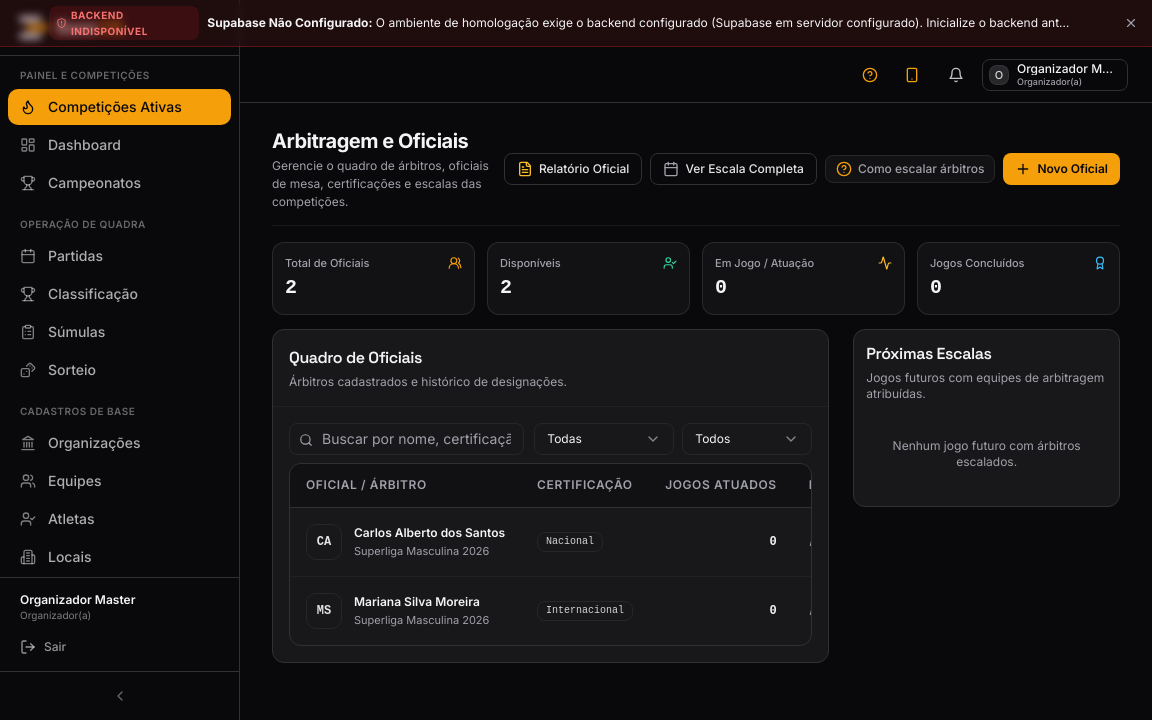
Scenario: RefereesPage Component (Fase 8.2) › abre o modal de criação de oficial ao clicar em Novo Oficial
Expected: the text "Carlos Alberto dos Santos" is shown, [354,525,505,541]
What coordinates should you click on to do the following:
click the button "Novo Oficial"
I would click on:
 (1062, 169)
Its box is [1003,153,1120,185].
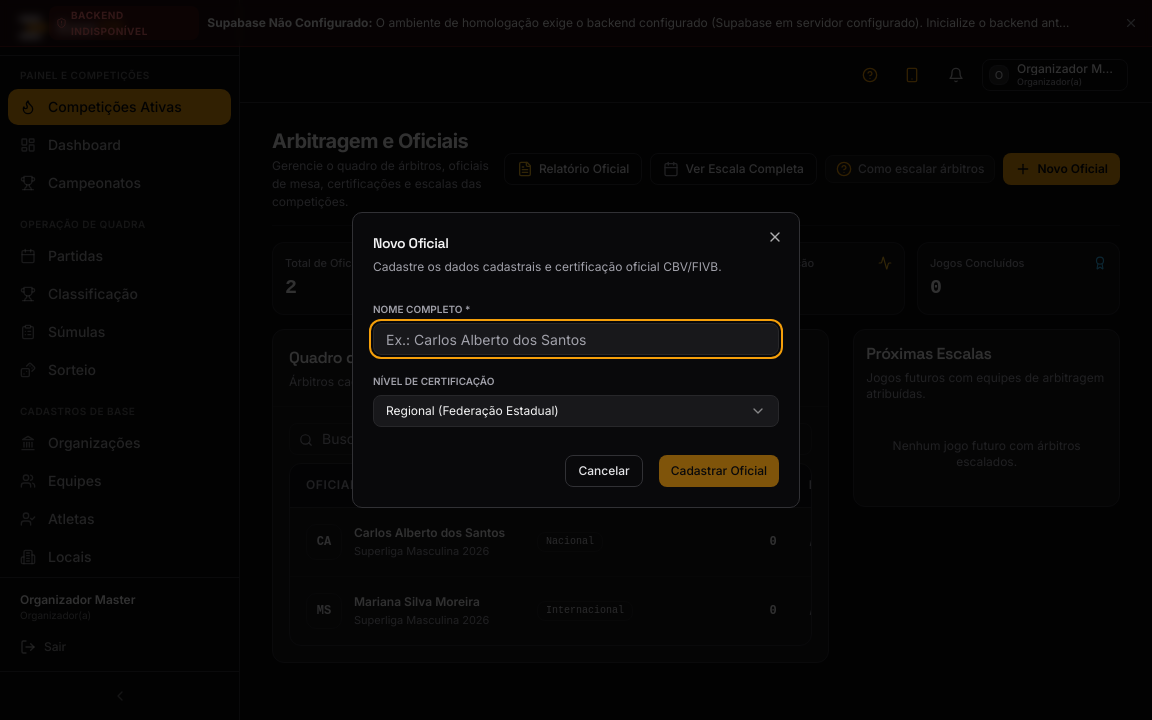
Expected: the dialog is shown, [352,212,800,508]
Expected: the field labelled "Nome Completo *" is shown, [373,323,779,355]
